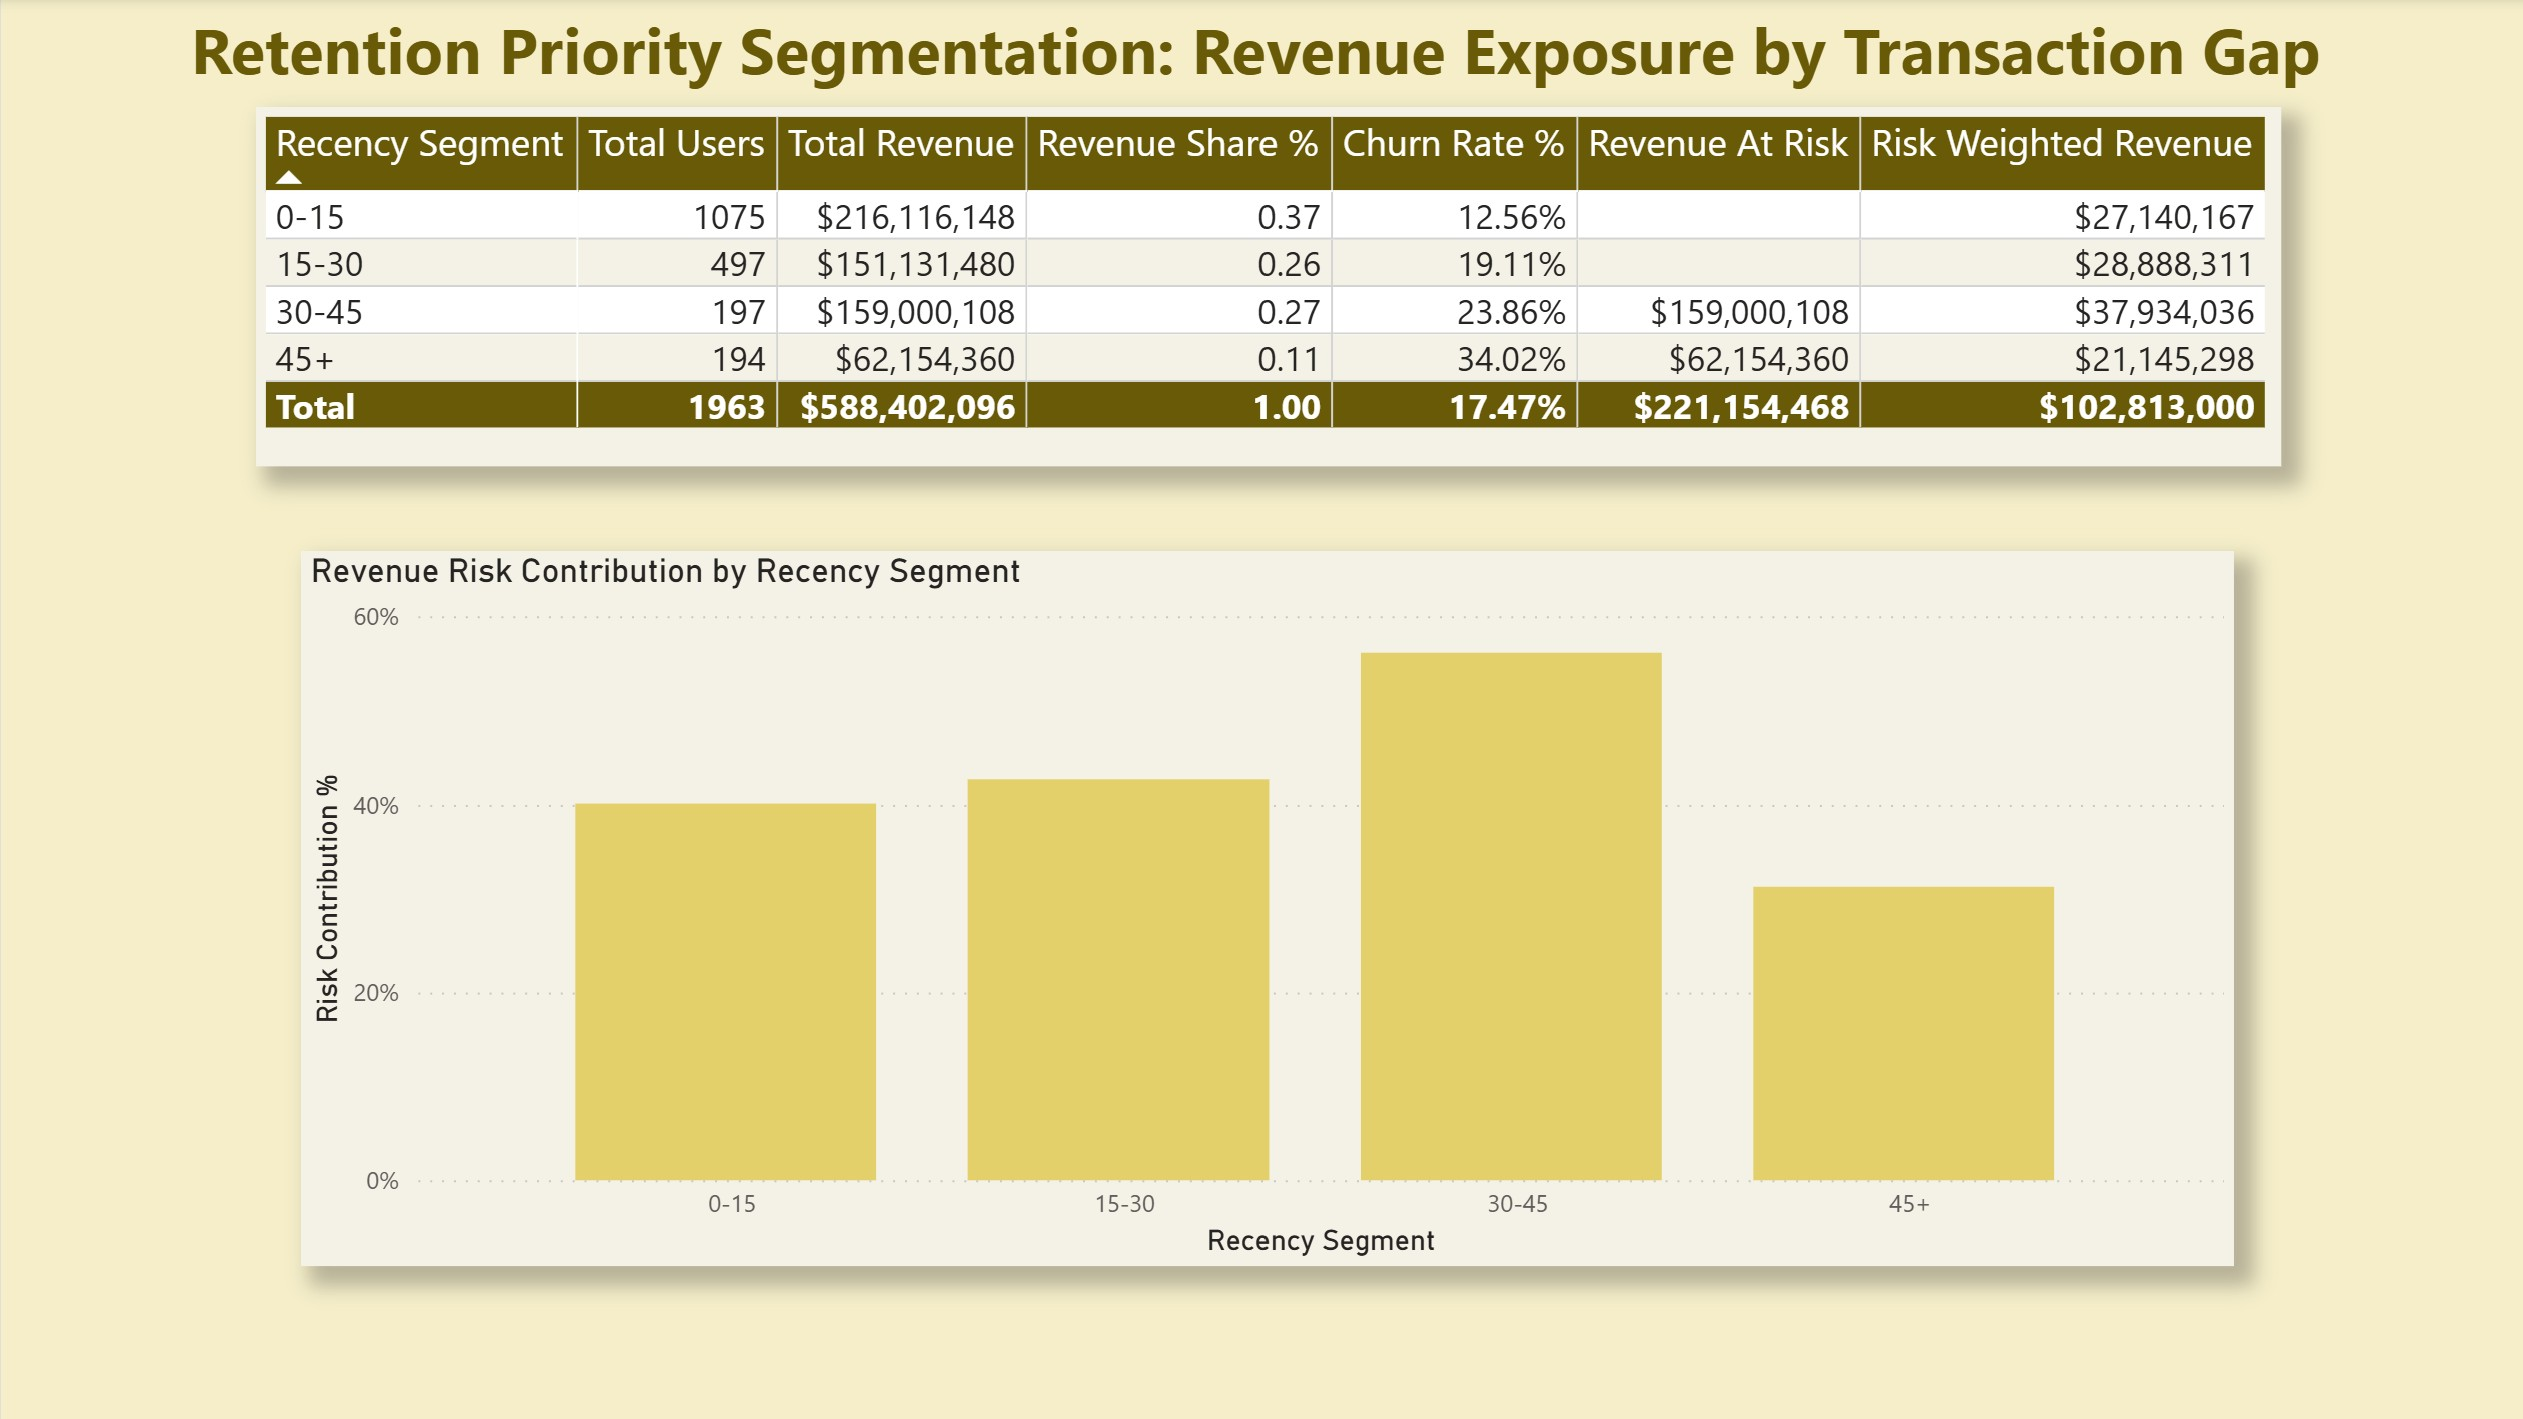

What the dashboard file says about the page in this screenshot:
{"tool":"powerbi","page":{"name":"Revenue Segmentation","canvas":[1280,720],"ordinal":2},"visuals":[{"type":"textbox","box":[91.7,0,1095,56.7],"z":0},{"type":"pivotTable","fields":{"Rows":["churn_bi_table.gap_bucket"],"Values":["churn_bi_table.Total Users","churn_bi_table.Total Revenue","churn_bi_table.Revenue Share %","churn_bi_table.Churn Rate %","churn_bi_table.Revenue At Risk","churn_bi_table.Risk Weighted Revenue"]},"box":[128.3,56.7,1023.3,181.7],"z":1000},{"type":"clusteredColumnChart","title":"Revenue Risk Contribution by Recency Segment","fields":{"Category":["churn_bi_table.gap_bucket"],"Y":["churn_bi_table.Risk Contribution %"]},"box":[151.7,280.6,976.7,360.9],"z":2000}]}

Visuals, with their boxes in screenshot pixels (x1, y1, x2, y2), scaled from the page's 1280x720 canvas onto the 2523x1419 screenshot:
textbox: (left=181, top=0, right=2339, bottom=112)
pivotTable - churn_bi_table.gap_bucket x churn_bi_table.Total Users: (left=253, top=112, right=2270, bottom=470)
"Revenue Risk Contribution by Recency Segment" clusteredColumnChart: (left=299, top=553, right=2224, bottom=1264)
